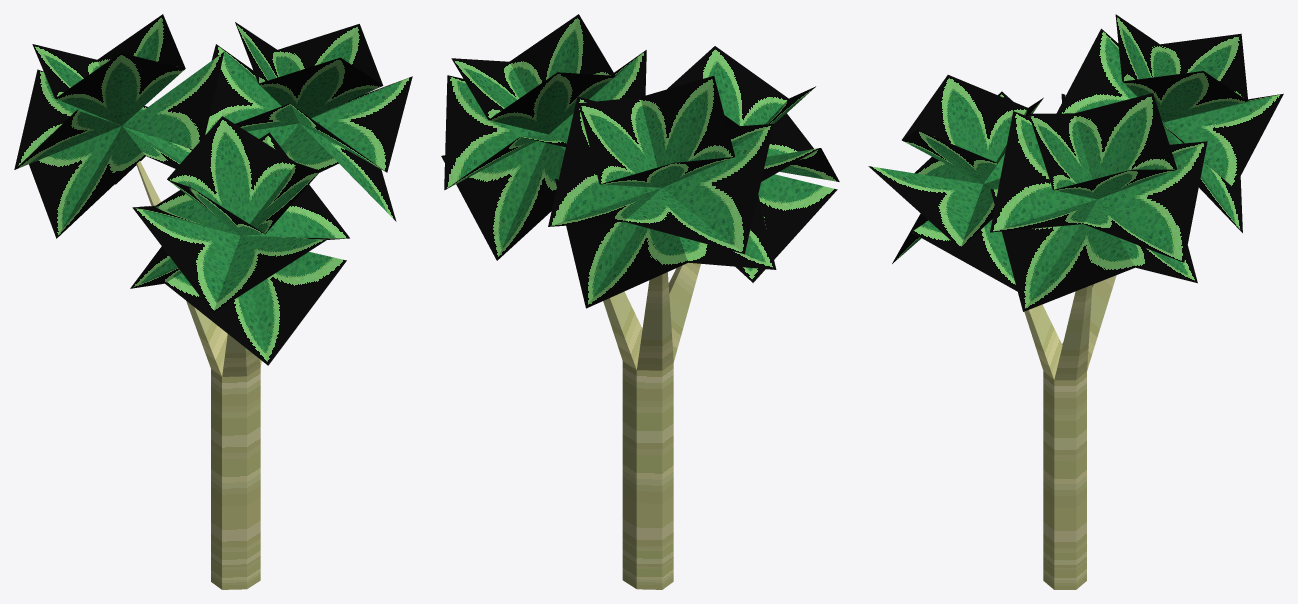
Rendered from tree.obj.
3 views of the same model, side by side, from view 1: azimuth 30°, elevation 25°; view 2: azimuth 150°, elevation 25°; view 3: azimuth 270°, elevation 25° (orthographic). The views are drawn at different scales.
Size of the model in its own units: 178 by 264 by 190.
1 material, 1 textured.
